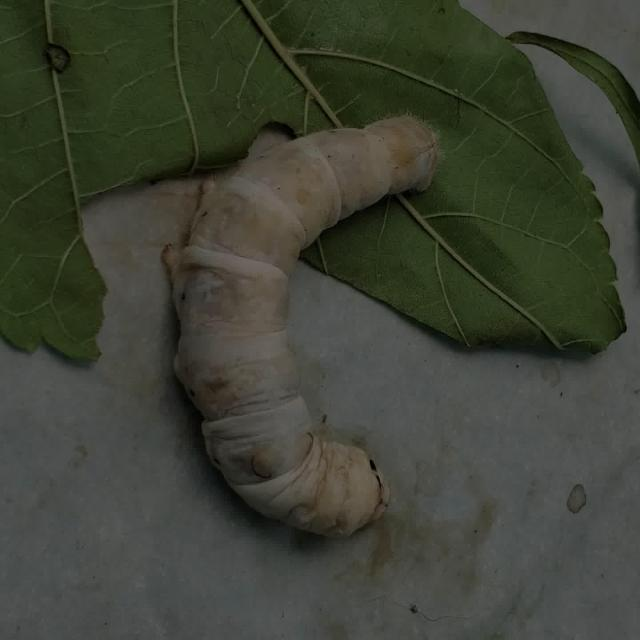Grasserie: (154, 86, 446, 541)
